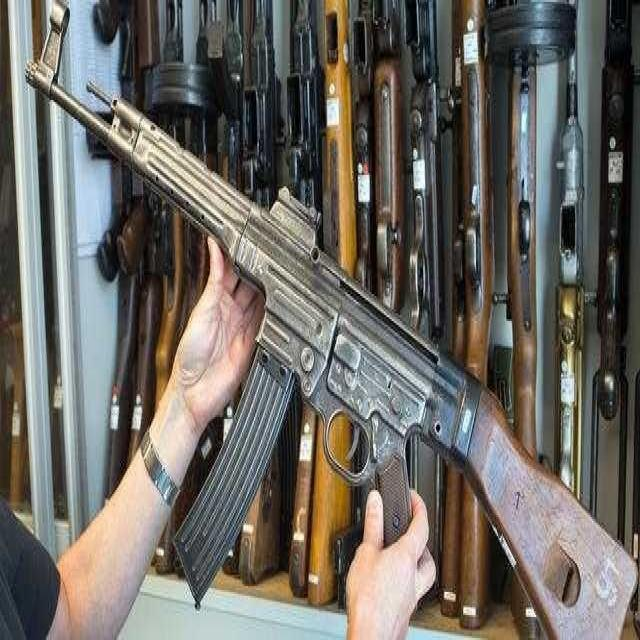weapon: (23, 19, 640, 640)
